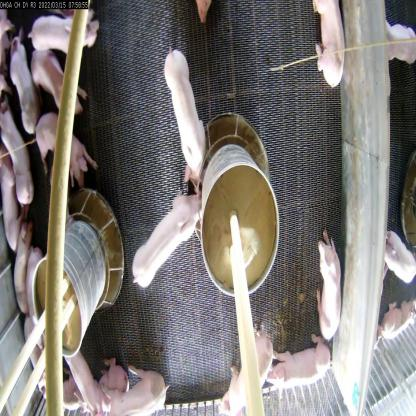Pig: (129, 192, 205, 290), (164, 46, 204, 185), (28, 40, 90, 125), (216, 334, 278, 416), (0, 98, 44, 212), (35, 113, 92, 189), (94, 365, 178, 416), (313, 232, 346, 347), (266, 338, 330, 396), (308, 0, 349, 89), (9, 26, 42, 136), (27, 8, 102, 54), (4, 218, 30, 313), (84, 354, 134, 402)
